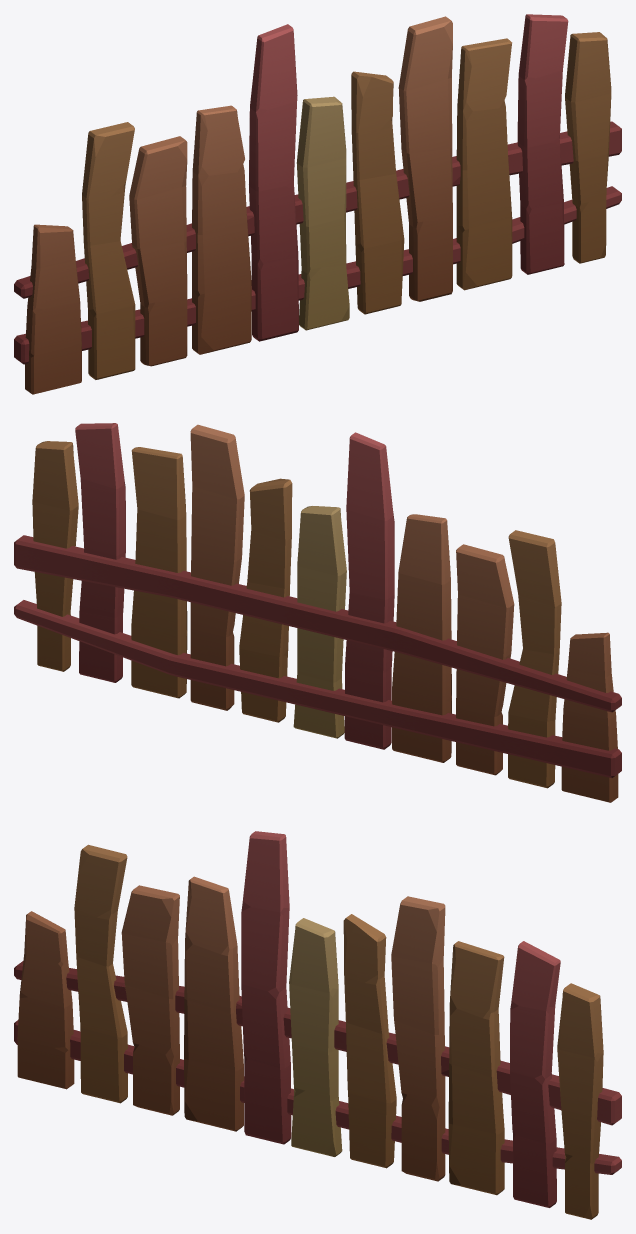
Rendered from pagar2.fbx.
3 views of the same model, one above another, from view 1: azimuth 30°, elevation 25°; view 2: azimuth 150°, elevation 25°; view 3: azimuth 330°, elevation 25° (orthographic).
Visible parts, largest first — view 1: Pagar fix.002; view 2: Pagar fix.002; view 3: Pagar fix.002.
Part boxes in pixels (bbox=[...]): Pagar fix.002: bbox=[14, 14, 621, 394]; Pagar fix.002: bbox=[14, 423, 621, 802]; Pagar fix.002: bbox=[14, 831, 621, 1219].
Size of the model in its own units: 386 by 188 by 15.26.
1 material, 1 textured.
